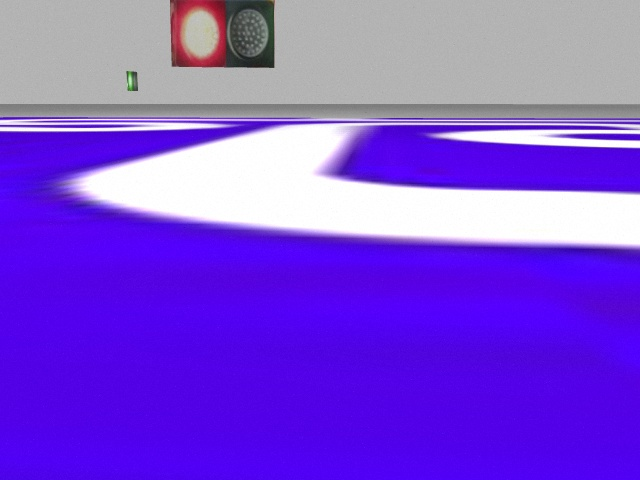red: (168, 2, 225, 66)
